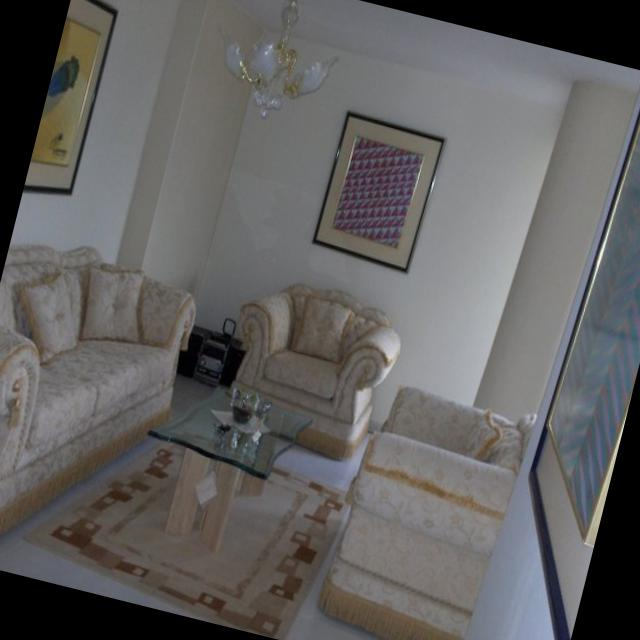alfombra: (21, 431, 351, 638)
cuadro: (310, 108, 445, 274), (24, 0, 118, 194)
lampara: (227, 0, 338, 117)
pillow occluded: (81, 265, 144, 341), (295, 296, 351, 361)
sofa bed: (321, 386, 538, 640), (217, 282, 399, 464)
stereo: (177, 328, 239, 383)
table -X: (154, 377, 311, 548)
